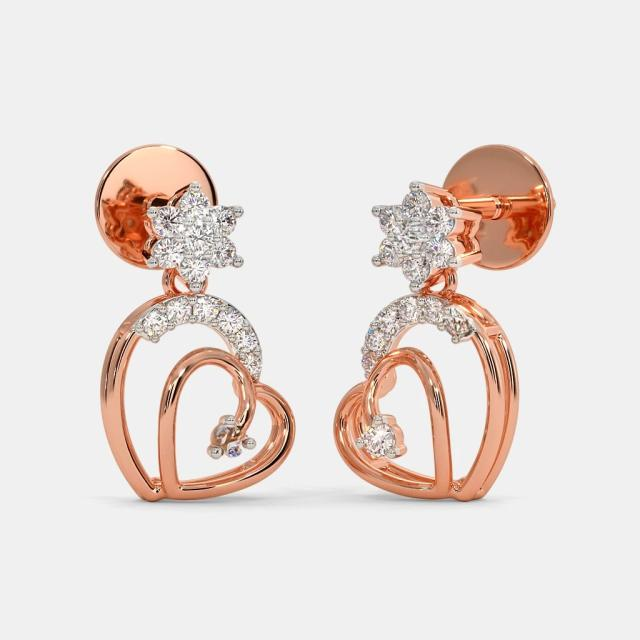missing gem: (216, 417, 256, 456)
